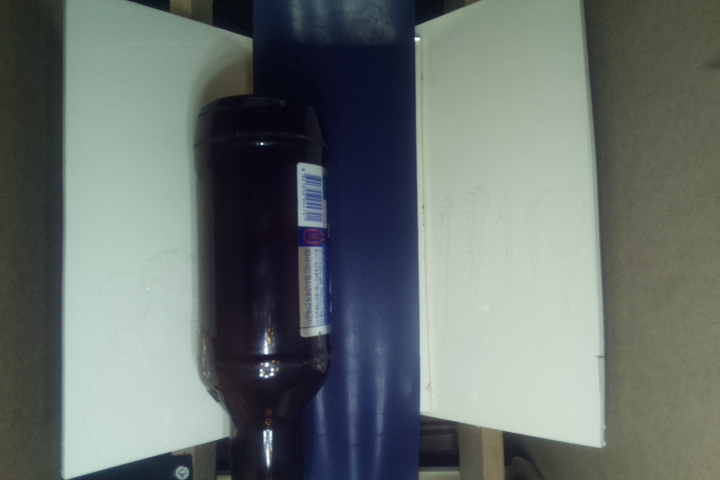makju: (190, 96, 334, 480)
